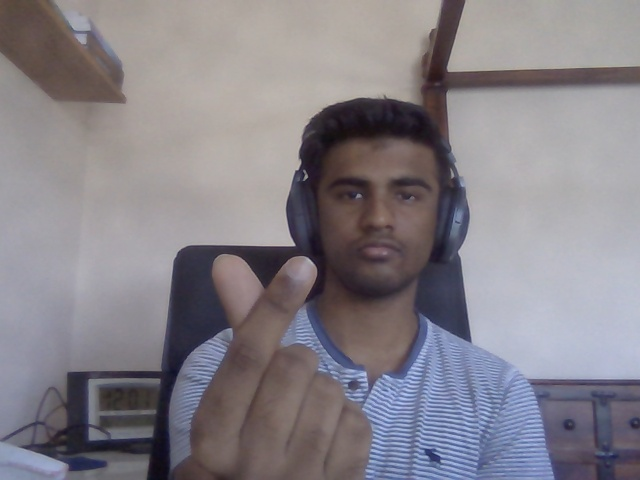Heart: (187, 251, 375, 480)
